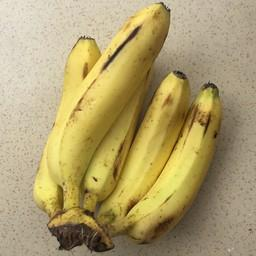Good_banana: (52, 1, 167, 212), (123, 70, 185, 230), (176, 70, 215, 230)
